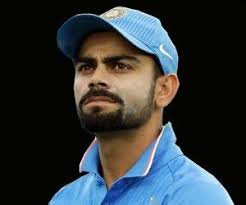Indian_Male: (72, 34, 151, 130)
